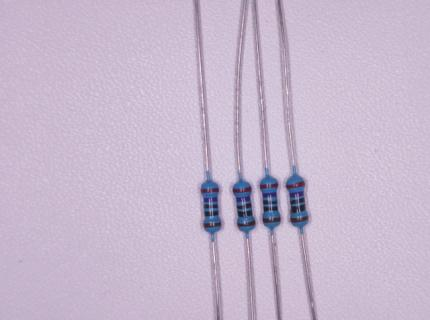Black band: (291, 204, 306, 212), (237, 202, 252, 209), (238, 210, 253, 217), (290, 198, 305, 205), (204, 210, 218, 216), (263, 206, 277, 212), (204, 204, 218, 209), (263, 199, 277, 204)
Brown band: (237, 219, 255, 228), (289, 215, 308, 223), (263, 216, 282, 223), (203, 222, 221, 228)
Red band: (286, 180, 305, 189), (232, 186, 251, 194), (259, 182, 277, 189), (200, 187, 219, 193)
Violet band: (289, 190, 305, 198), (236, 195, 251, 203), (263, 191, 277, 198), (203, 197, 218, 202)
